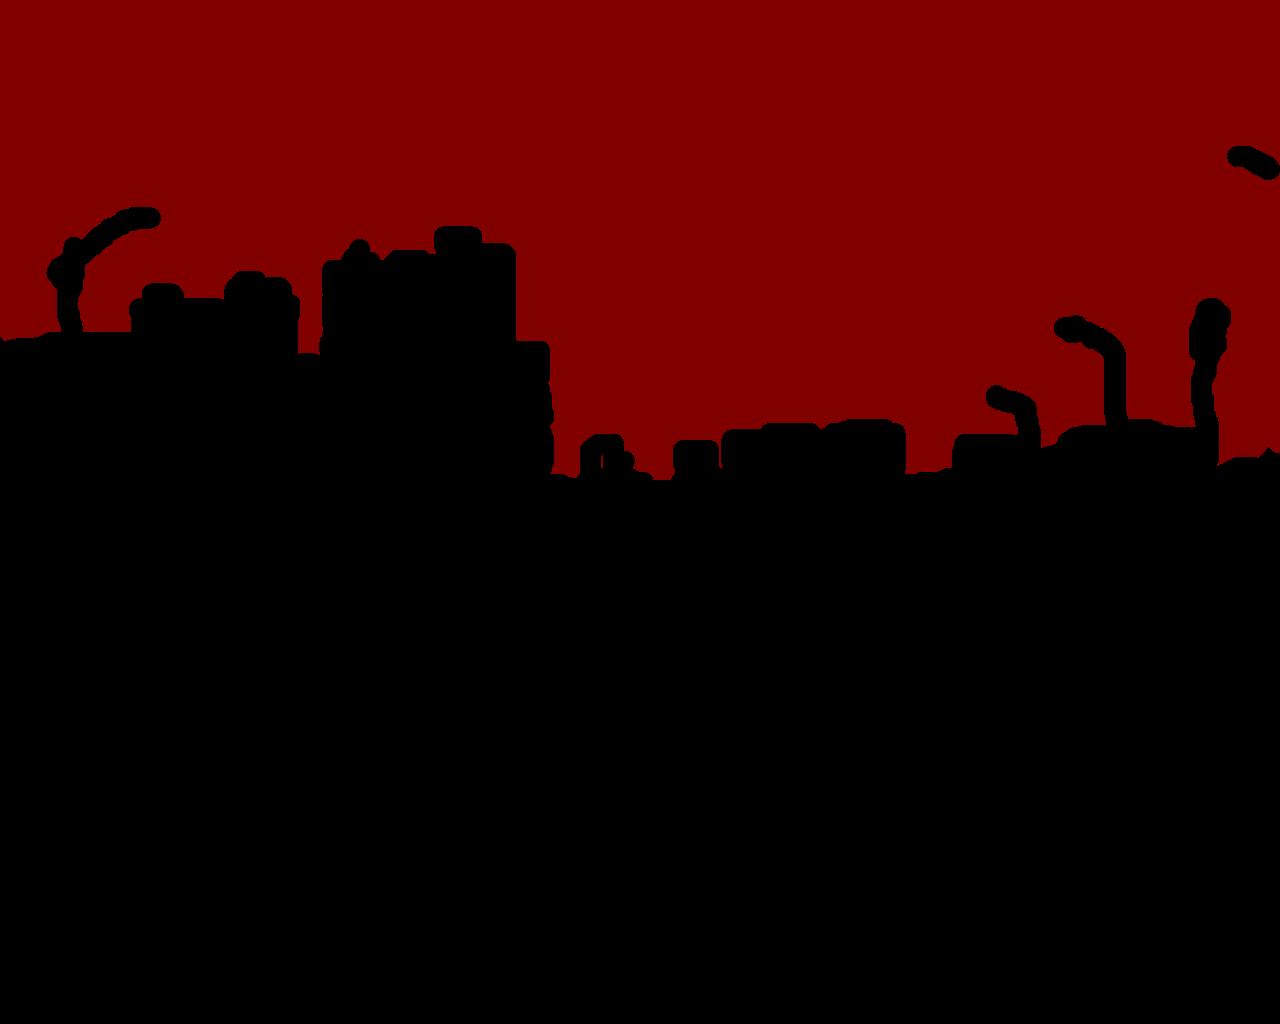Sky: (1, 1, 1279, 480)
